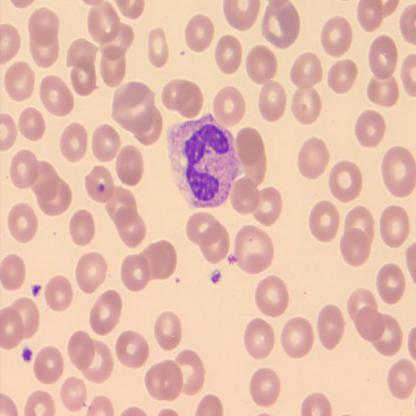Segmented neutrophil: (166, 109, 244, 211)
